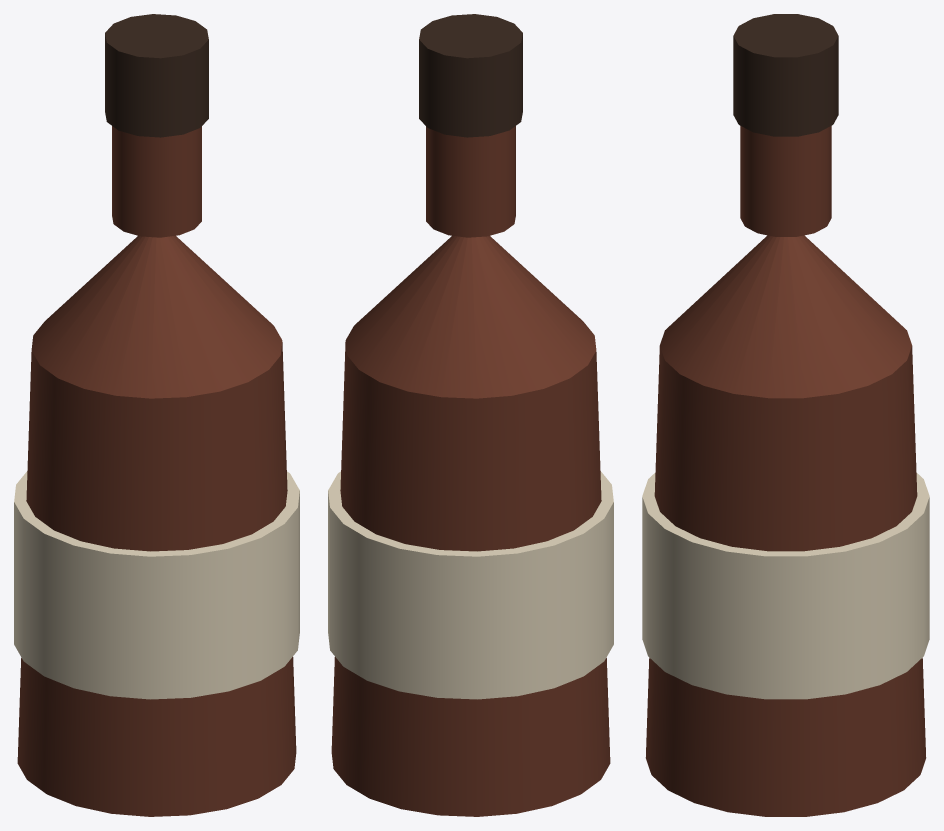
The model's file is wok_food_vinegar.glb.
3 views of the same model, side by side, from view 1: azimuth 30°, elevation 25°; view 2: azimuth 150°, elevation 25°; view 3: azimuth 270°, elevation 25° (orthographic).
Bounding box in the file's own units: 0.0812 × 0.2275 × 0.082.
